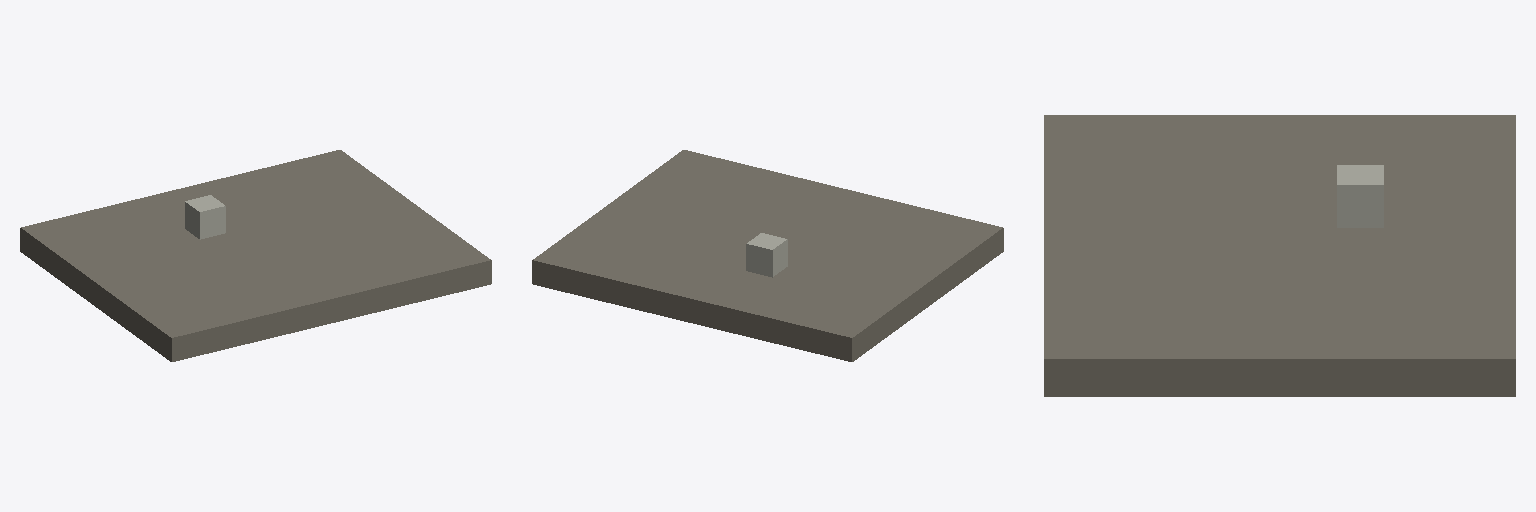
robot.urdf — parttoolgen_hammer_single_cube:
<?xml version="1.0"?>
<robot name="parttoolgen_hammer_single_cube">
  <link name="table_with_target_cube">
    <visual>
      <material name="wood">
        <color rgba="0.52 0.50 0.46 1.0"/>
      </material>
      <origin xyz="0 0 0"/>
      <geometry>
        <box size="0.55 0.45 0.04"/>
      </geometry>
    </visual>
    <collision>
      <origin xyz="0 0 0"/>
      <geometry>
        <box size="0.55 0.45 0.04"/>
      </geometry>
    </collision>

    <visual>
      <material name="target_cube">
        <color rgba="0.72 0.72 0.68 1.0"/>
      </material>
      <origin xyz="-0.04271148697027995 0.07694188251495548 0.042499999999999996"/>
      <geometry>
        <box size="0.045 0.045 0.045"/>
      </geometry>
    </visual>
    <collision>
      <origin xyz="-0.04271148697027995 0.07694188251495548 0.042499999999999996"/>
      <geometry>
        <box size="0.045 0.045 0.045"/>
      </geometry>
    </collision>

    <inertial>
      <mass value="500"/>
      <friction value="1.0"/>
      <inertia ixx="1000.0" ixy="0.0" ixz="0.0" iyy="1000.0" iyz="0.0" izz="1000.0"/>
    </inertial>
  </link>
</robot>

--- What the picture shows (computed from the rendered views, not written in the file) ---
3 views of the same robot in one strip: view 1: azimuth 30°, elevation 25°; view 2: azimuth 150°, elevation 25°; view 3: azimuth 270°, elevation 25° (orthographic).
Robot: parttoolgen_hammer_single_cube — 1 links, 0 joints (none); root link table_with_target_cube; default pose: all joints at 0.
Links seen in each view (by area): view 1: table_with_target_cube; view 2: table_with_target_cube; view 3: table_with_target_cube.
Link boxes in pixels (x1,y1,x2,y2): table_with_target_cube: [20, 150, 491, 361]; table_with_target_cube: [532, 150, 1003, 361]; table_with_target_cube: [1044, 115, 1515, 396].
Size in the robot's own frame: 0.55 by 0.45 by 0.085 metres.
Geometry: primitives only (box / cylinder / sphere), no mesh files.
